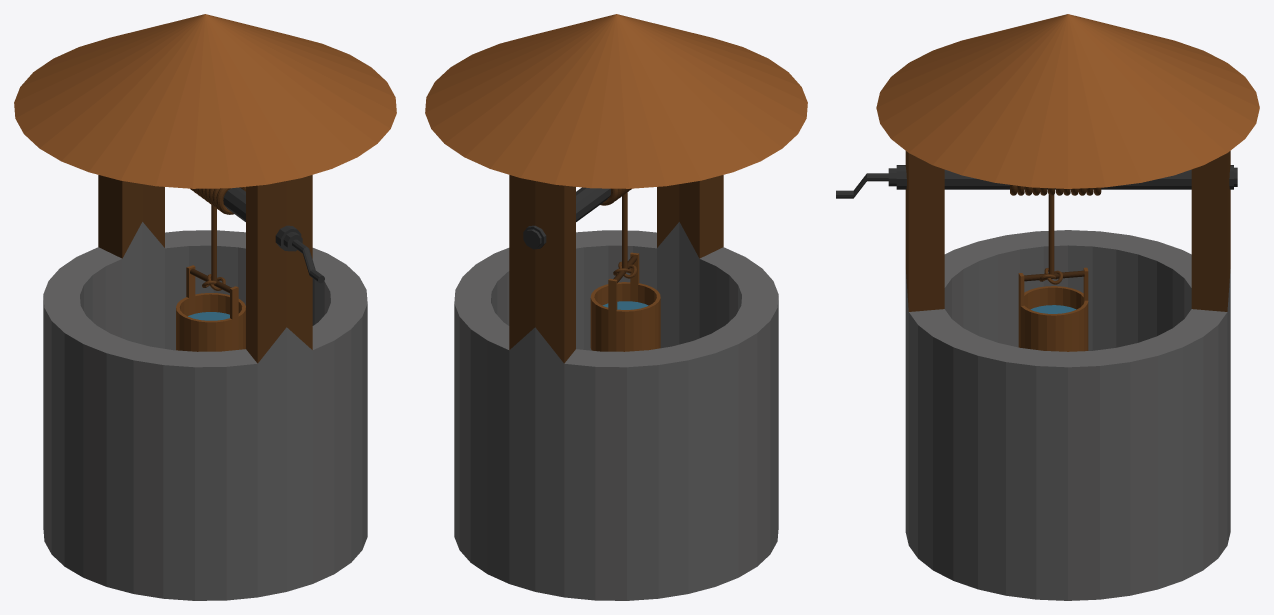
File: waterwells.fbx
3 views of the same model, side by side, from view 1: azimuth 30°, elevation 25°; view 2: azimuth 150°, elevation 25°; view 3: azimuth 270°, elevation 25° (orthographic).
Parts seen in each view (by area): view 1: Torus_Knot; view 2: Torus_Knot; view 3: Torus_Knot.
Part boxes in pixels (left/top/right/bottom): Torus_Knot: left=14, top=14, right=396, bottom=600; Torus_Knot: left=425, top=14, right=807, bottom=600; Torus_Knot: left=836, top=14, right=1259, bottom=600.
Size of the model in its own units: 7.65 by 11.4 by 8.45.
